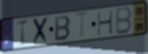B: (115, 6, 133, 37), (54, 15, 72, 42)
H: (96, 9, 114, 38)
T: (75, 11, 90, 41), (16, 18, 30, 48)
X: (32, 15, 50, 46)
